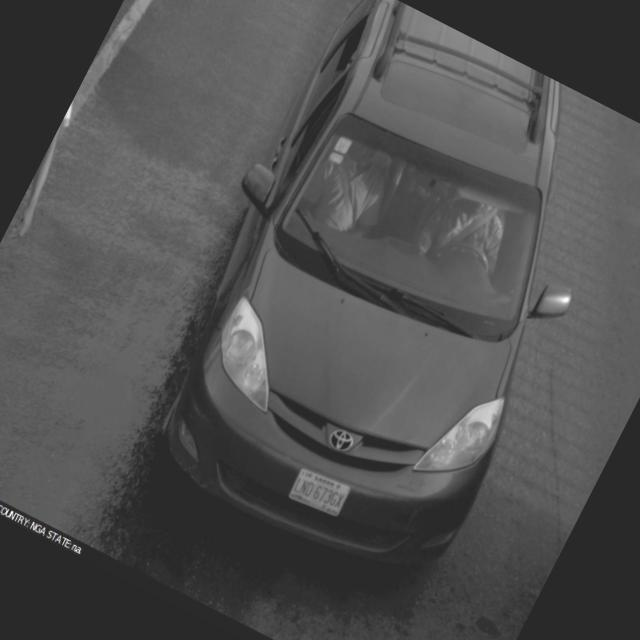windshield: (265, 99, 547, 347)
